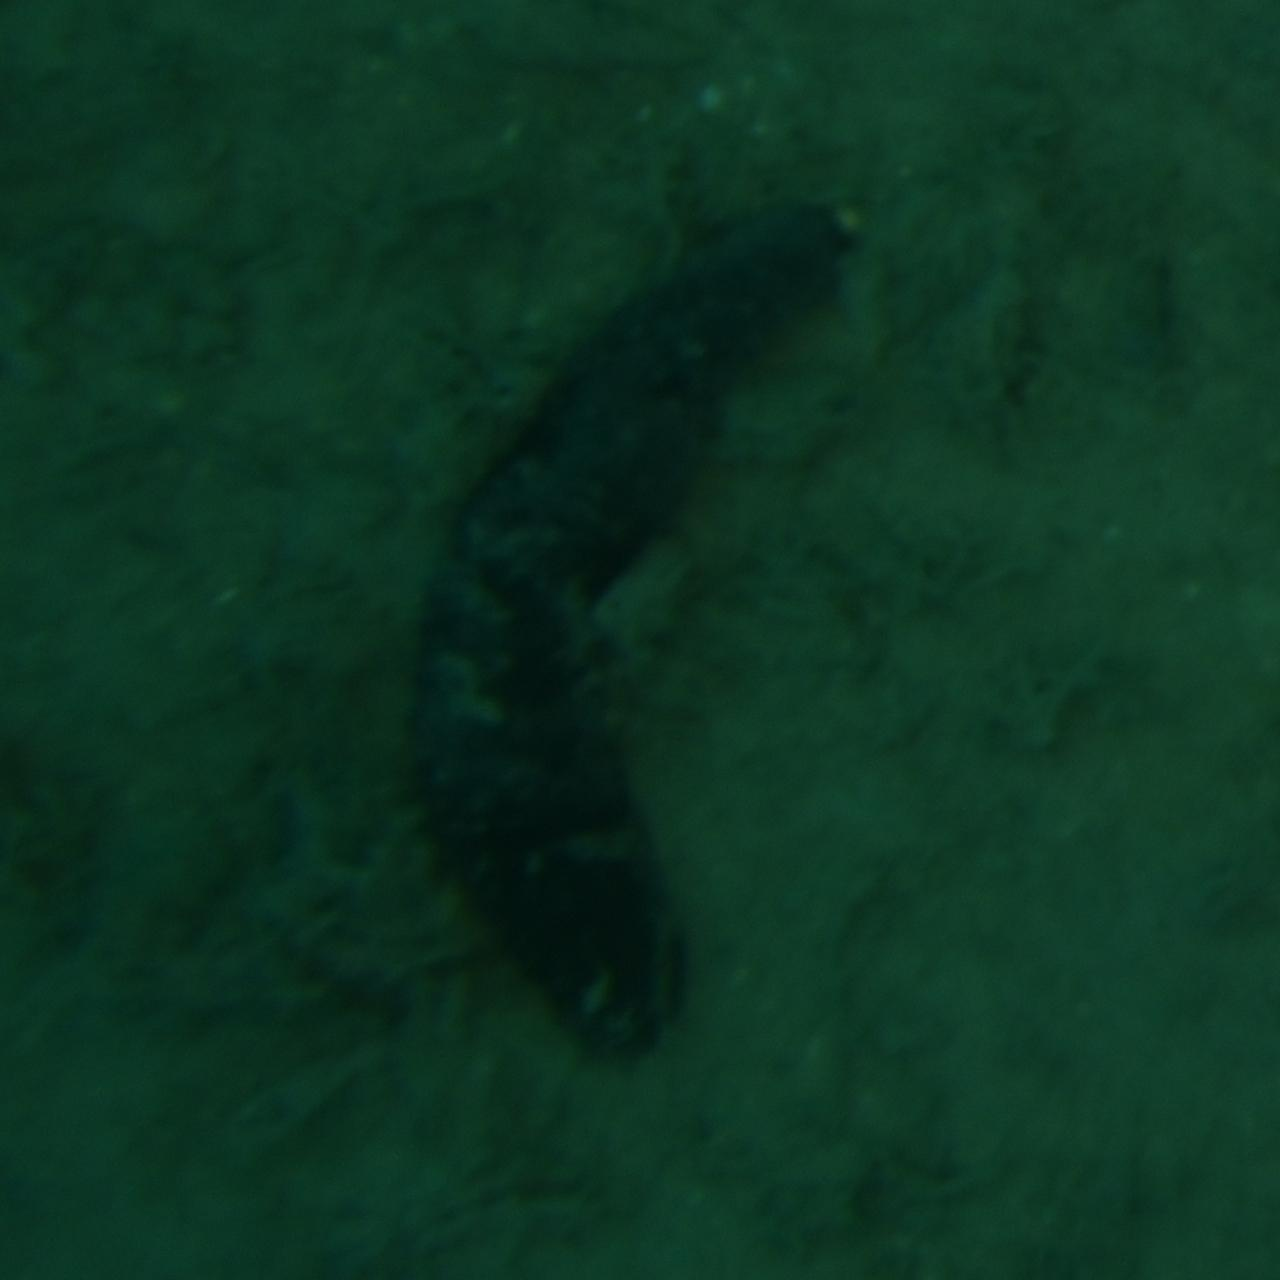Holothuria tubulosa: (400, 192, 880, 1088)
